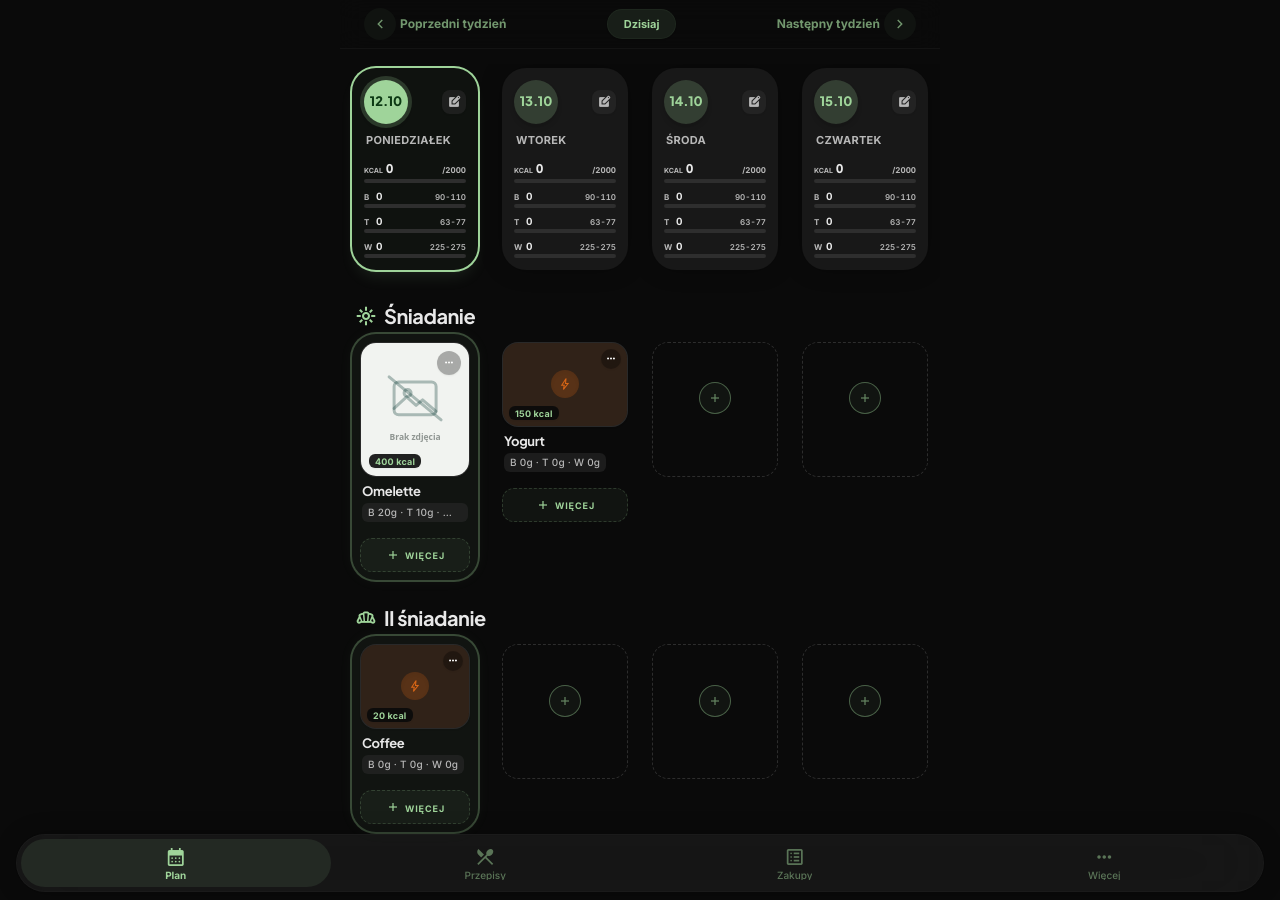
it: Plan copying › asks before copying into a slot with meals and appends next to them
The image size is (1280, 900).
Click the 5th button "more_horiz".
click(449, 362)  # box [437,350,461,374]
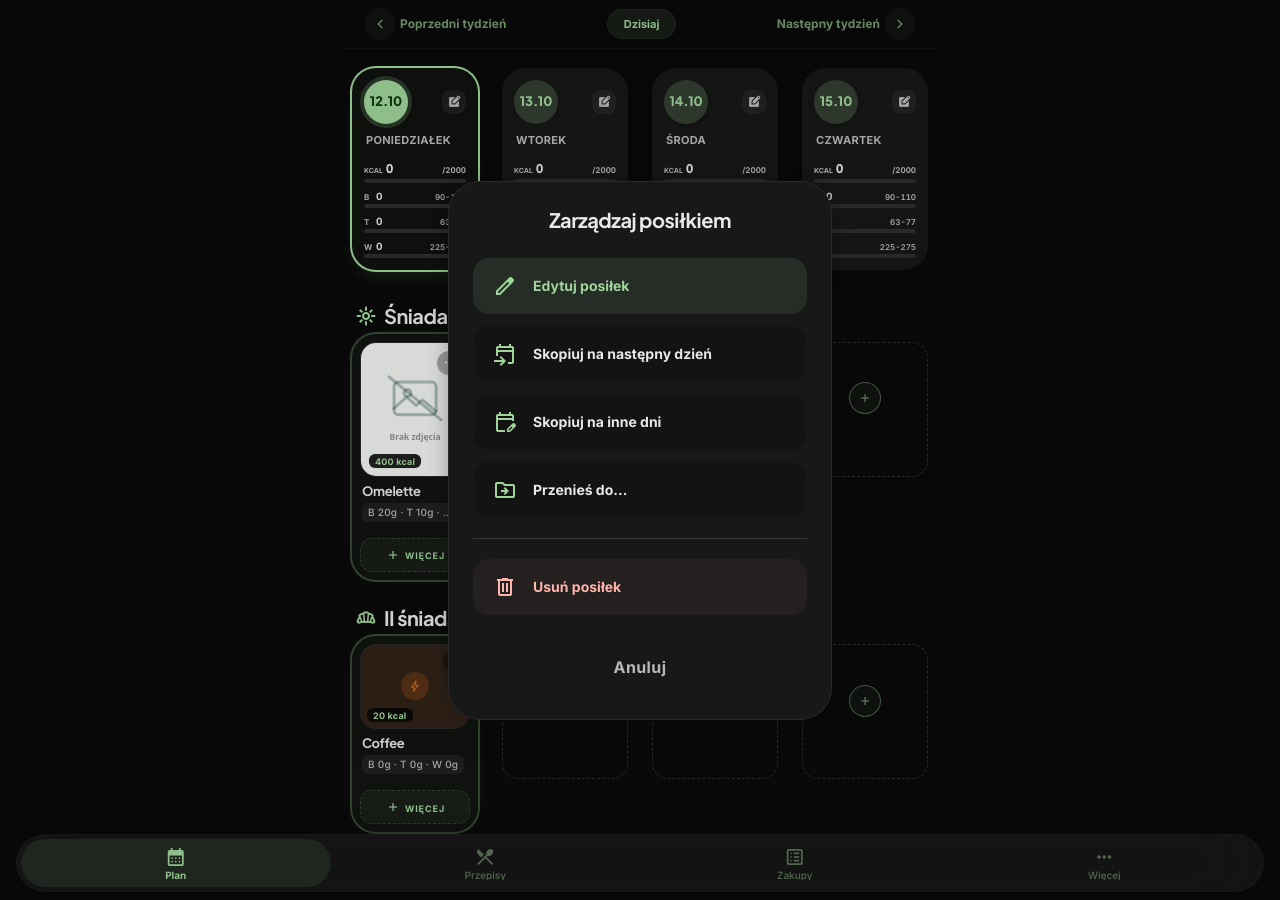
Click the button "Skopiuj na następny dzień".
click(640, 354)  # box [473,326,807,382]
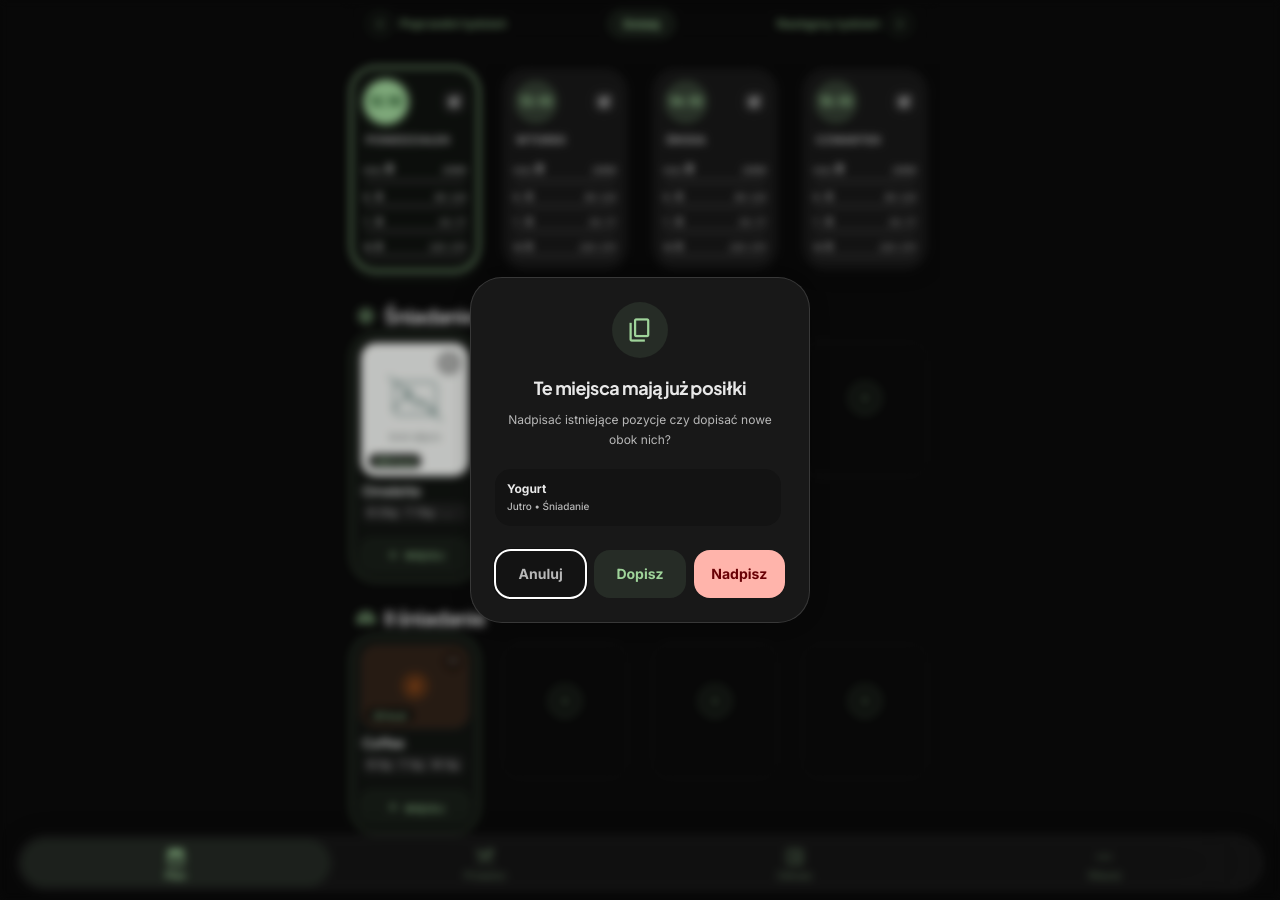
Check: the text "Yogurt" is shown, box [507,481,546,496]
Click the button "Dopisz".
click(640, 574)  # box [594,550,686,598]
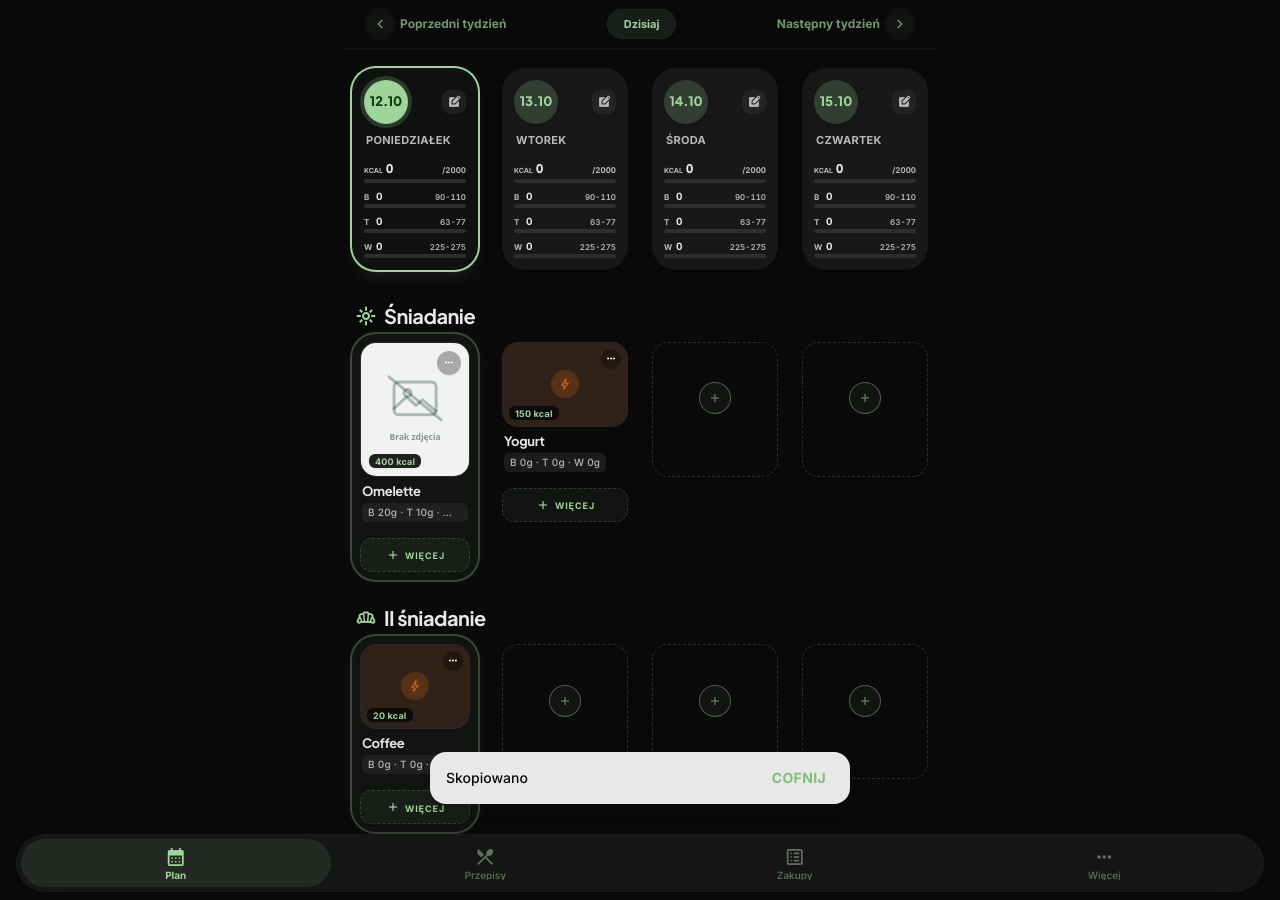
Check: the text "Skopiowano" is shown, box [446,768,528,788]
